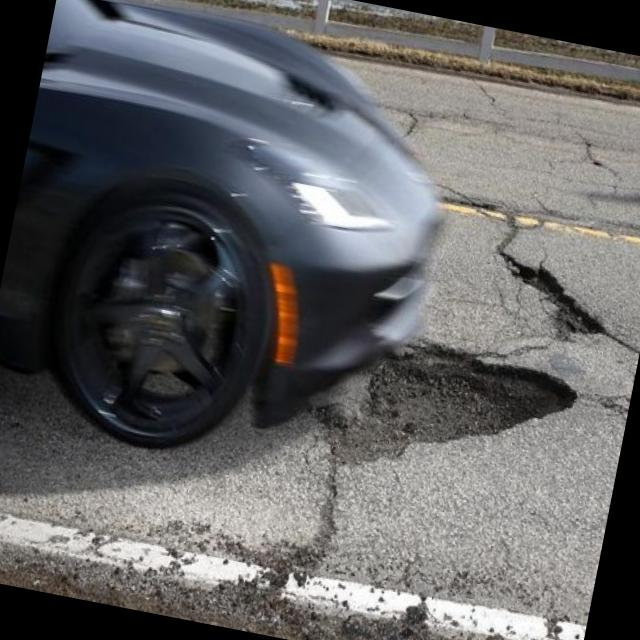Potholes: (292, 296, 599, 510), (471, 186, 633, 380)
